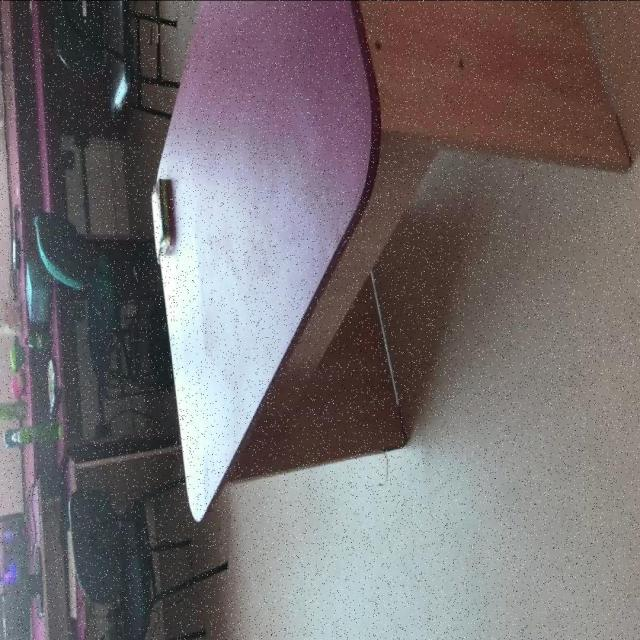Sponge: (150, 179, 172, 265)
